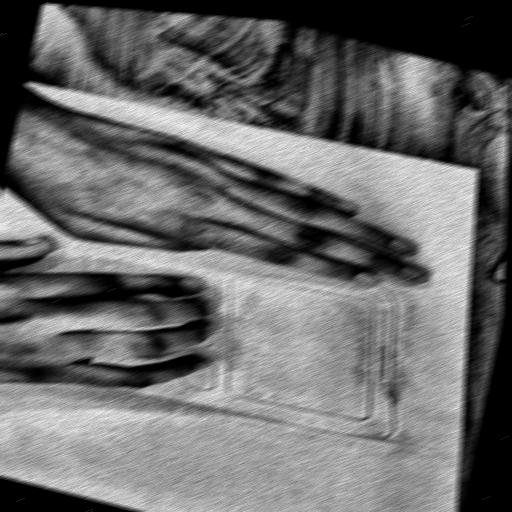mobile: (0, 207, 471, 458)
top_right: (467, 163, 483, 174)
